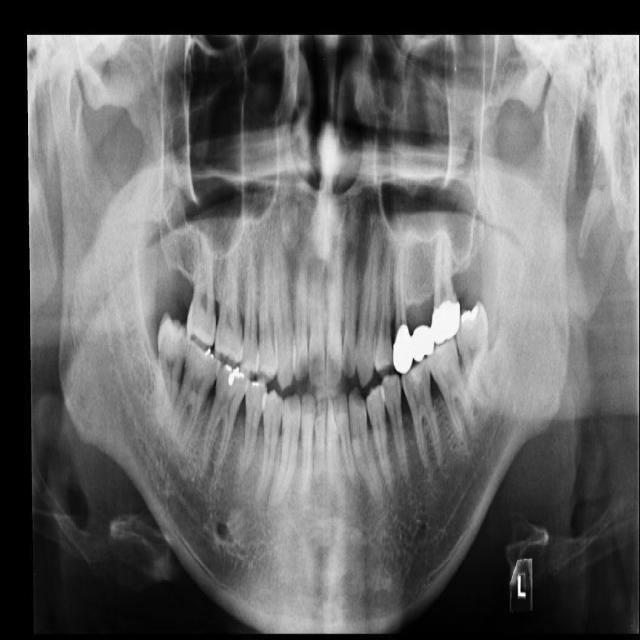52: (377, 289, 474, 377), (174, 336, 228, 392), (204, 353, 257, 409), (394, 357, 444, 405), (452, 299, 492, 357)
73: (610, 594, 620, 610)
BioHorizons Implant: (430, 224, 465, 346)
Biomet 3i Implant: (452, 300, 500, 415)
Blue Sky Bio Implant: (422, 336, 480, 446)
Caries: (186, 211, 217, 349)
Implant: (166, 336, 226, 458)
Keystone Dental Implant: (151, 310, 192, 430)
